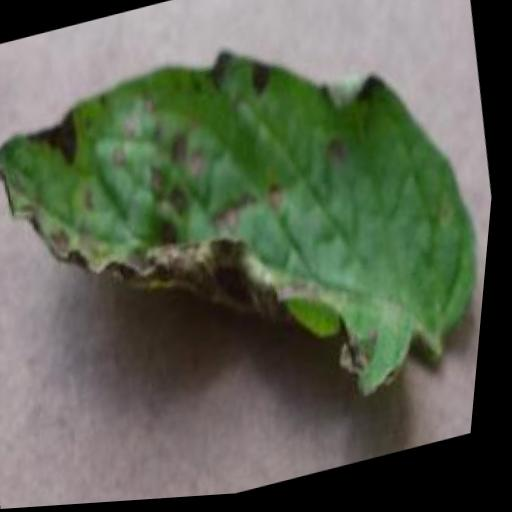Early Blight: (0, 0, 510, 484)
